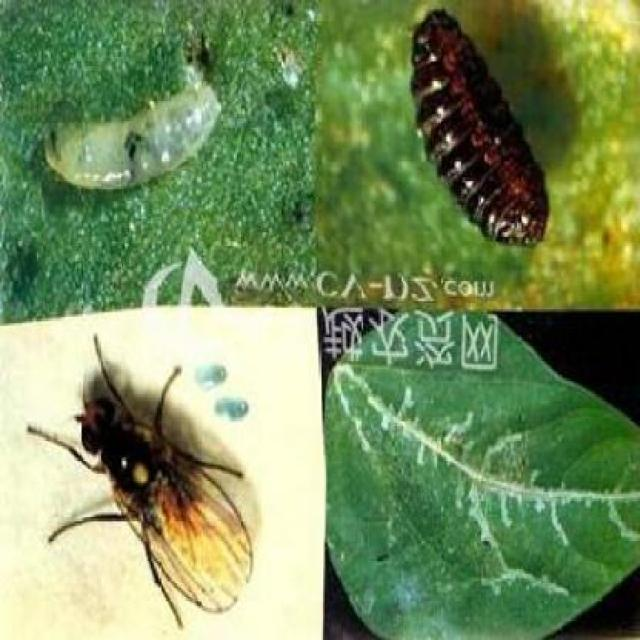whorl-maggot: (393, 11, 558, 255), (39, 61, 238, 197)
